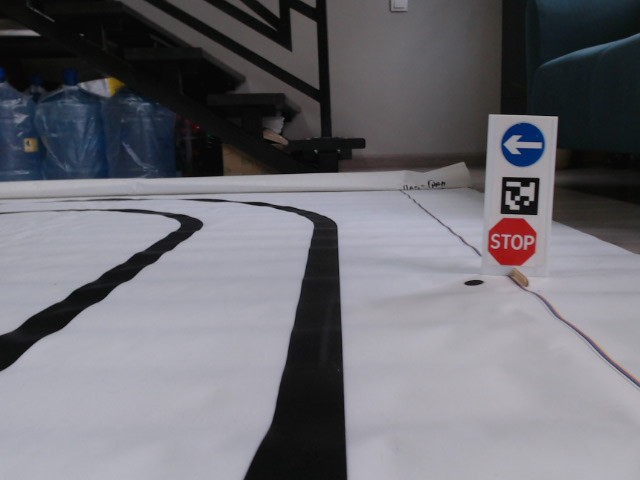Stop: (486, 216, 538, 268)
